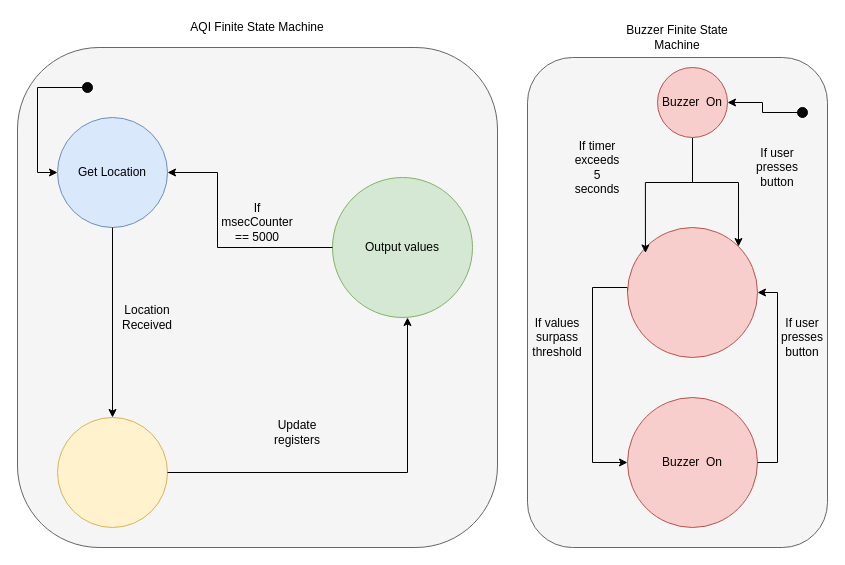
Some shapes in this 845 by 565 pixel diagram are drawn without their labels. The centre of each missing label's shape, as x and y in pixels:
"Buzzer Off" belongs at point (692, 292).
"Fetch Values" belongs at point (112, 472).
